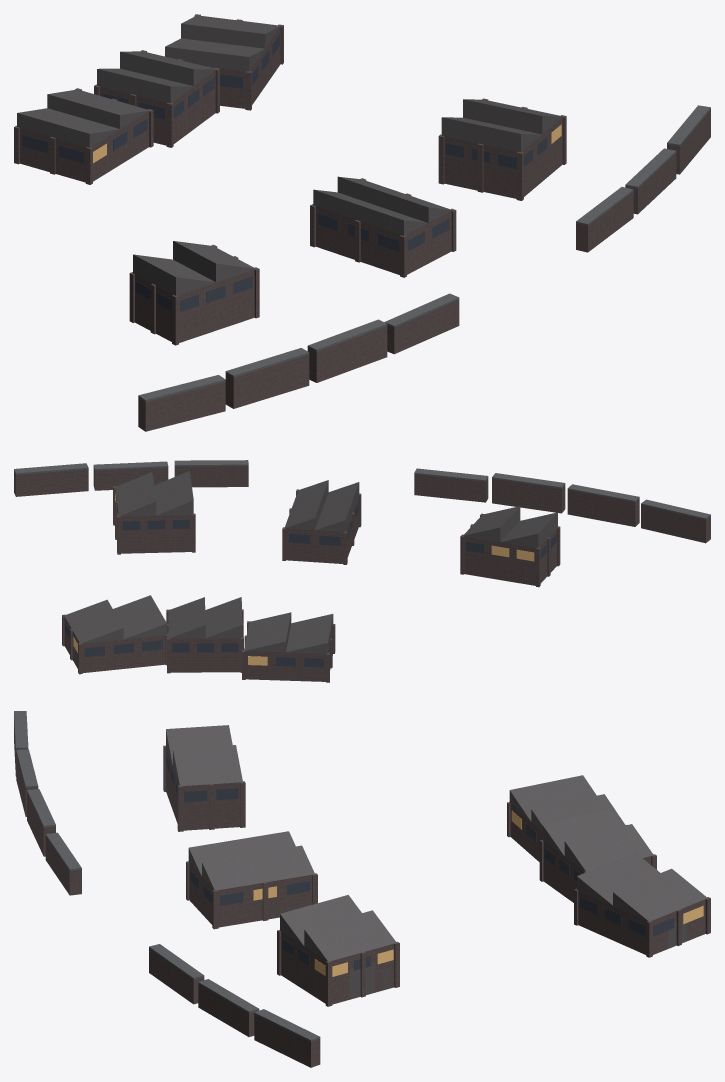
File: SM_City_BaytAlDarb_6.fbx
The picture shows the model from 3 angles, top to bottom: view 1: azimuth 30°, elevation 25°; view 2: azimuth 150°, elevation 25°; view 3: azimuth 270°, elevation 25°; orthographic projection. The views are drawn at different scales.
Visible parts, largest first — view 1: SM_City_BaytAlDarb_6; view 2: SM_City_BaytAlDarb_6; view 3: SM_City_BaytAlDarb_6.
Boxes of the visible parts, bbox=[...] form: SM_City_BaytAlDarb_6: bbox=[14, 14, 710, 431]; SM_City_BaytAlDarb_6: bbox=[14, 460, 710, 682]; SM_City_BaytAlDarb_6: bbox=[14, 711, 710, 1067].
Size of the model in its own units: 7392 by 652 by 6644.
Materials: 6 (6 with a texture image).
